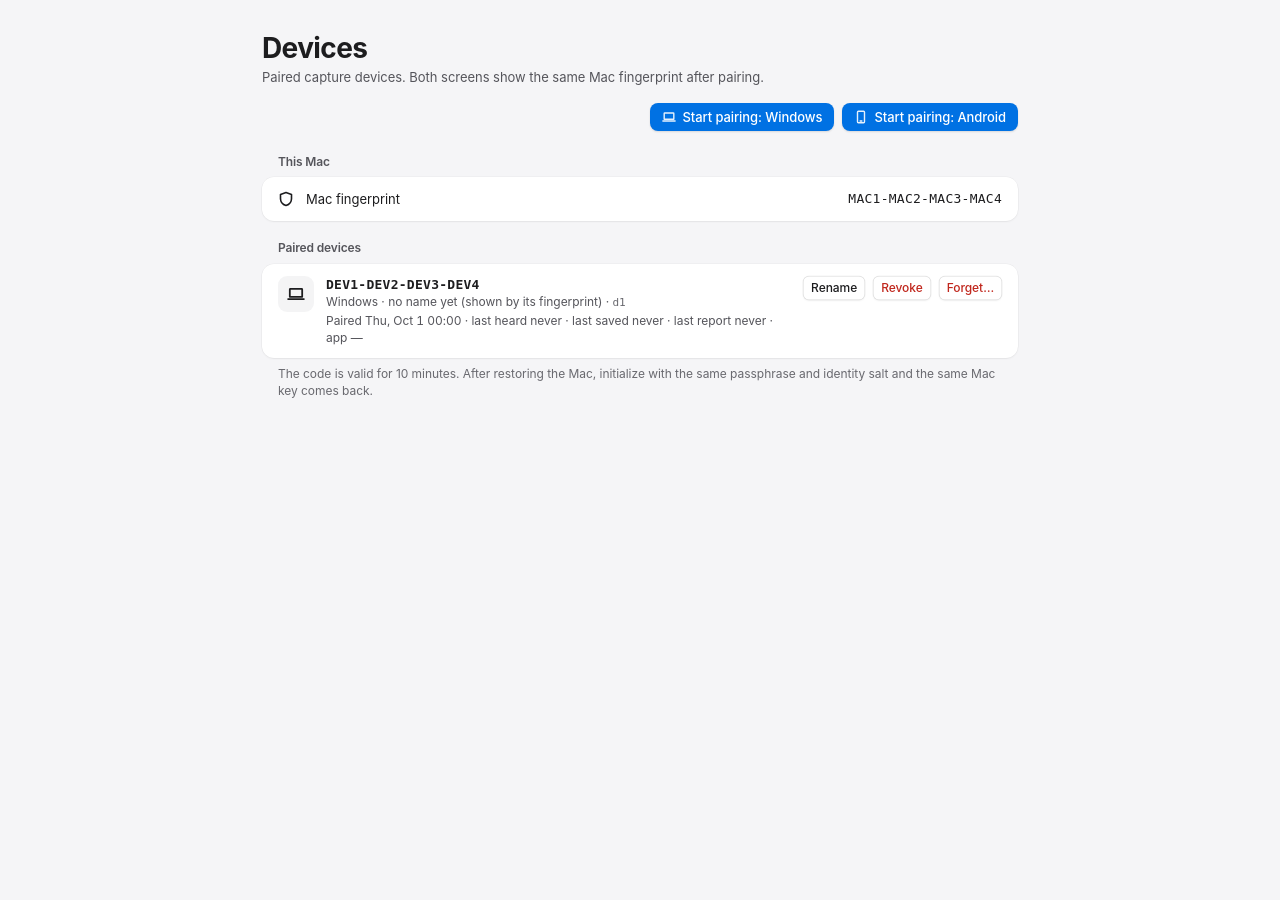
Test: forget a device › shows the footprint, needs the fingerprint, then forgets and shows what was removed
Click the button "Forget…" at (970, 288), box [939, 276, 1002, 300]
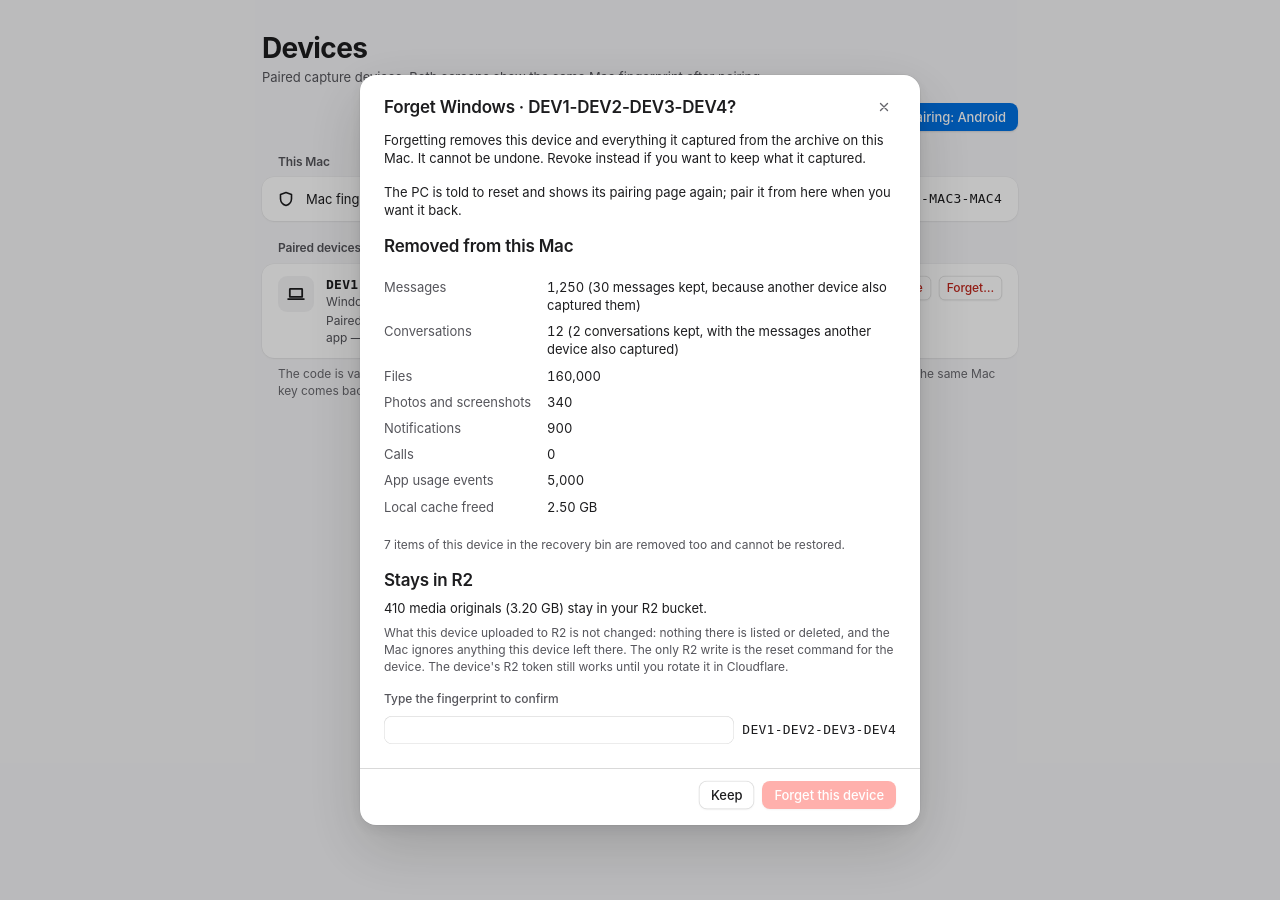
Expected: the text "7 items of this device in the recovery bin are removed too and cannot be restored." is shown, [384, 537, 896, 554]
Expected: the text with test id "forget-r2" reads "410 media originals (3.20 GB) stay in your R2 bucket.", [384, 600, 707, 616]
Expected: the text with test id "forget-fingerprint" reads "DEV1-DEV2-DEV3-DEV4", [742, 722, 896, 737]
Type "dev1-dev2-dev3-dev" into the field labelled "Type the fingerprint to confirm" at (559, 730), box [384, 716, 734, 744]
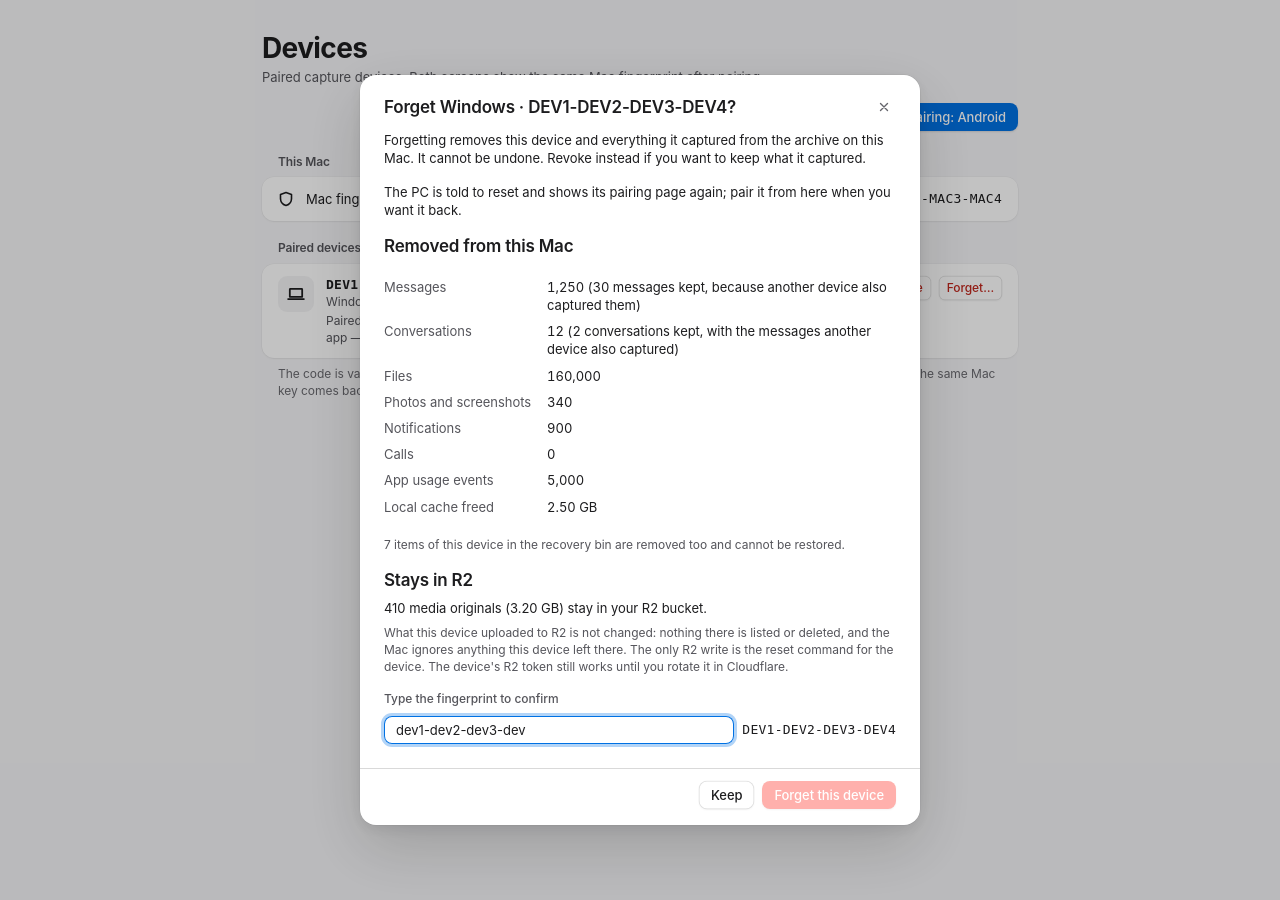
Expected: the button "Forget this device" is disabled, [762, 781, 896, 809]
Type "4 " into the field labelled "Type the fingerprint to confirm" at (559, 730), box [384, 716, 734, 744]
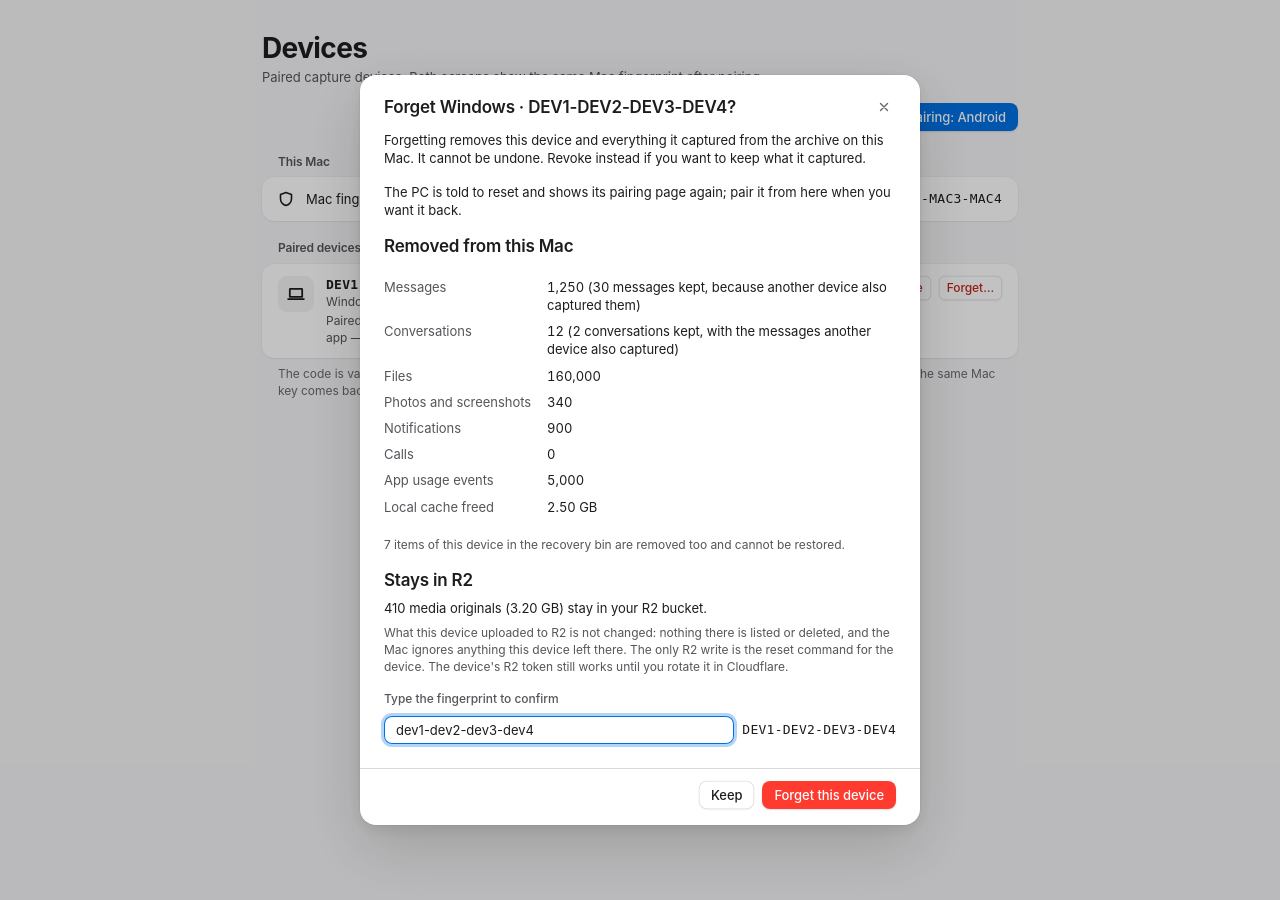
Expected: the button "Forget this device" is enabled
Click the button "Forget this device" at (829, 795), box [762, 781, 896, 809]
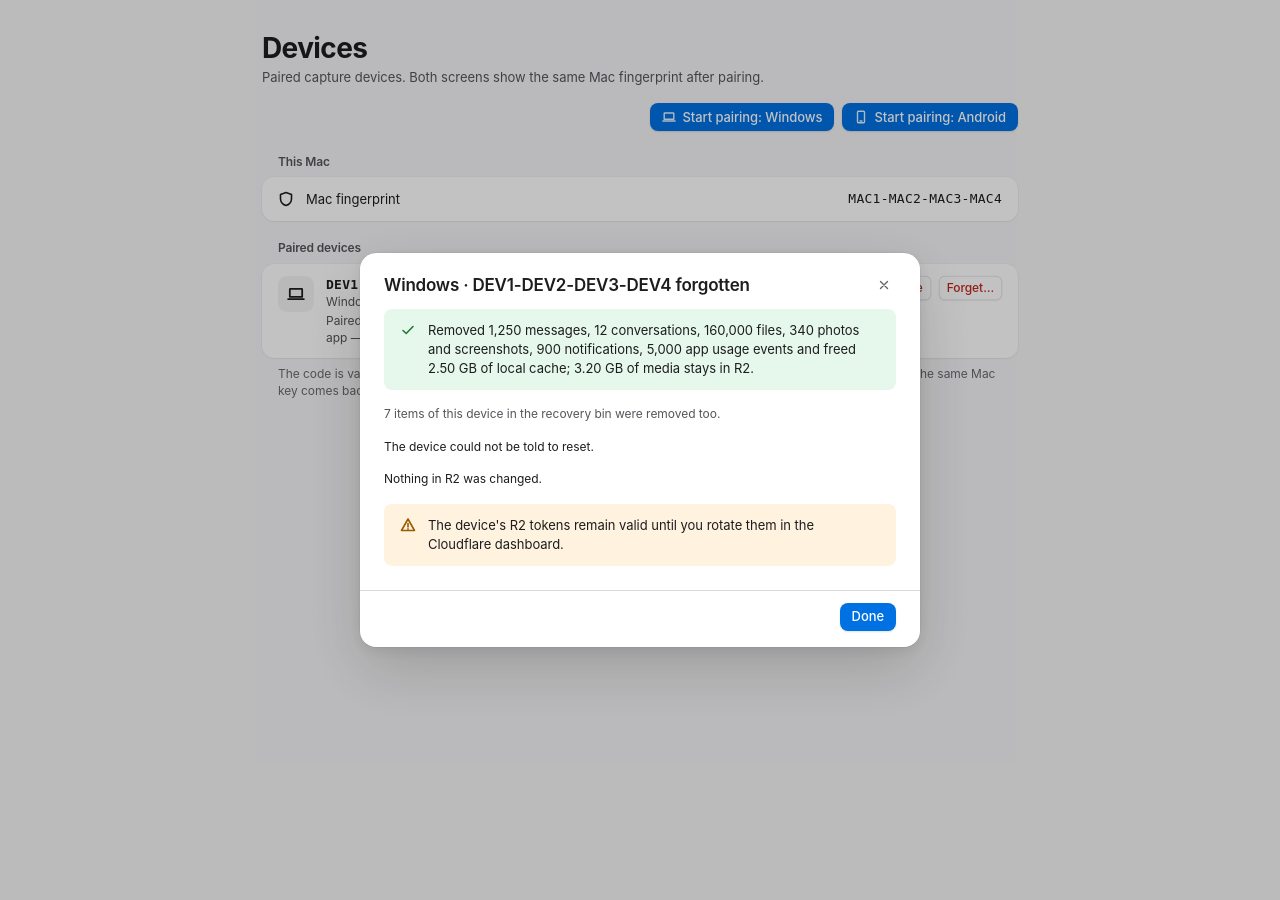
Expected: the message shows "Removed 1,250 messages, 12 conversations, 160,000 files, 340 photos and screenshots, 900 notifications, 5,000 app usage events and freed 2.50 GB of local cache;", [428, 322, 859, 376]
Expected: the dialog named "Forget device" shows "rotate them in the Cloudflare dashboard", [428, 517, 814, 552]
